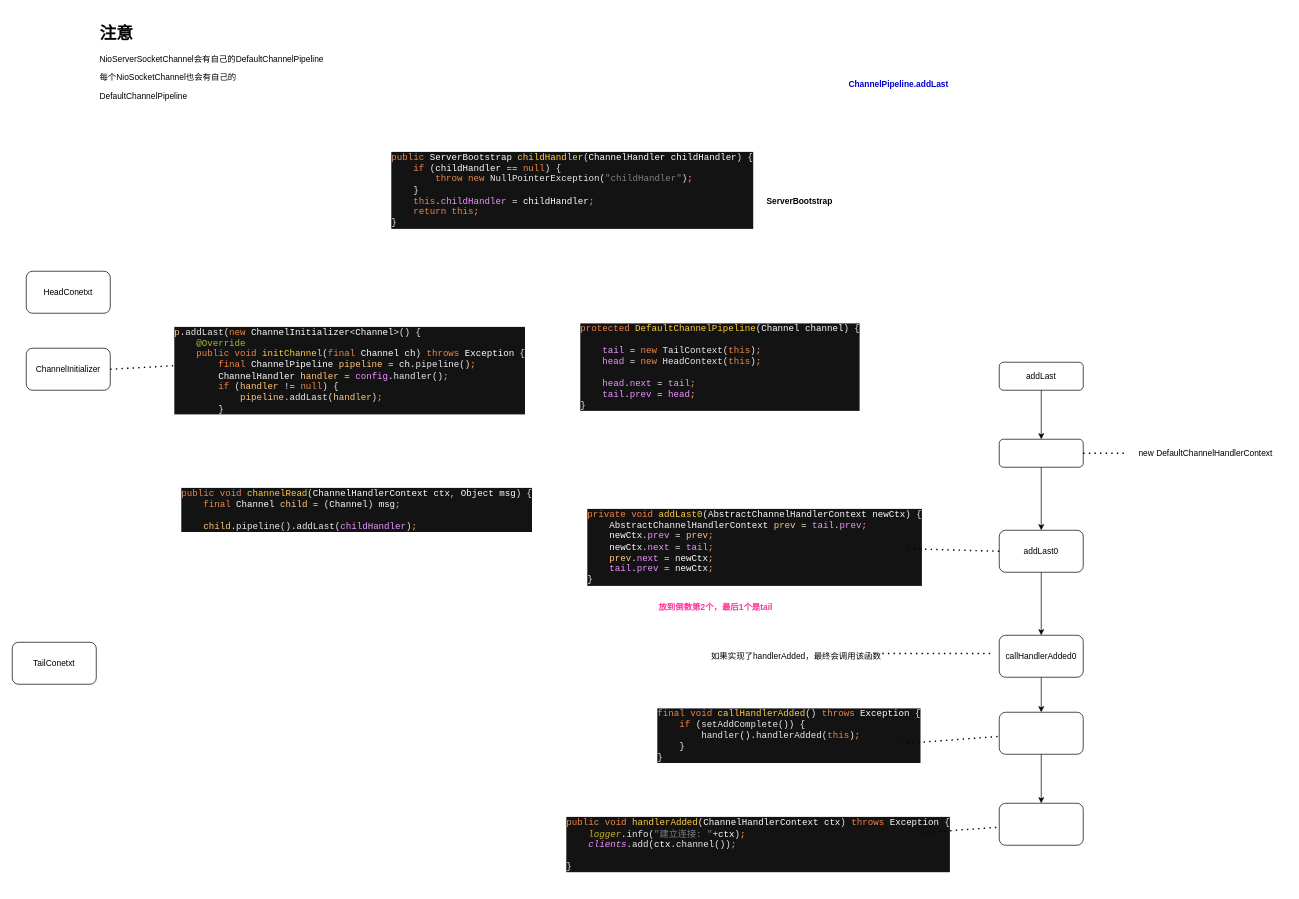
This 1299x899 diagram has some shape labels left out. The shapes that lost their labels are listed below. From the top down, each one's centre as x and y in pixels, then its label:
point 1041,453: newContext
point 1041,733: callHandlerAdded
point 1041,824: handlerAdded 如果覆盖率该方法
